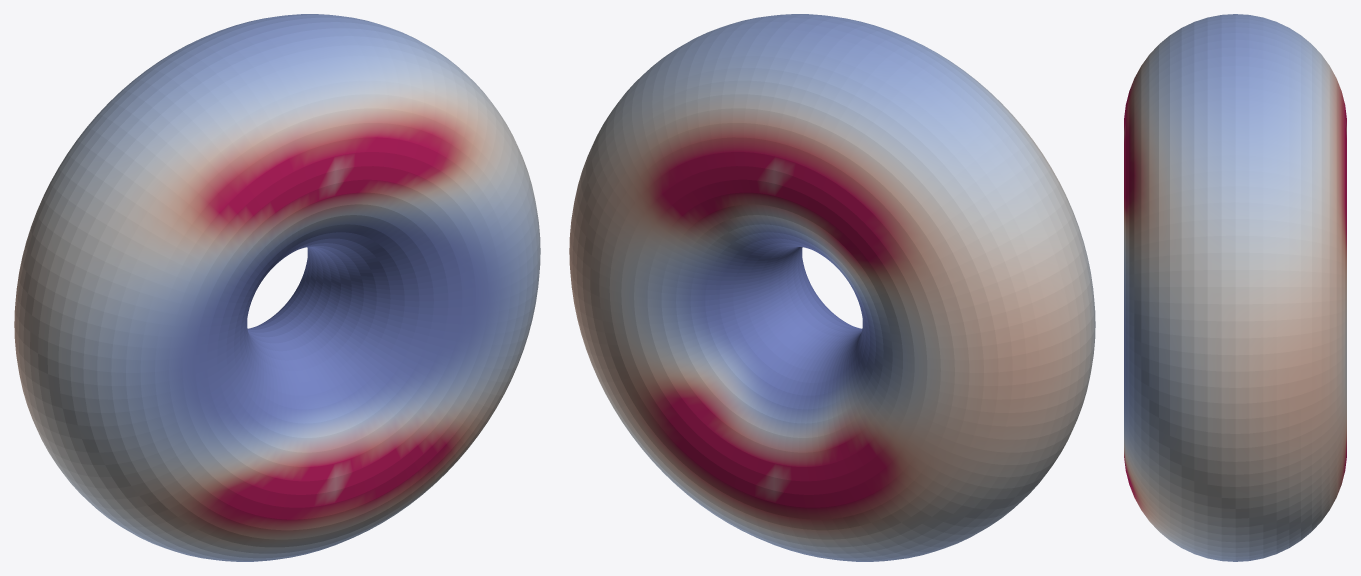
3 views of the same model, side by side, from view 1: azimuth 30°, elevation 25°; view 2: azimuth 150°, elevation 25°; view 3: azimuth 270°, elevation 25° (orthographic). The views are drawn at different scales.
Visible parts, largest first — view 1: world; view 2: world; view 3: world.
Boxes of the visible parts, <box> form: world: <box>14,14,540,561</box>; world: <box>569,14,1095,561</box>; world: <box>1124,14,1346,561</box>.
Size of the model in its own units: 18 by 18 by 7.32.
